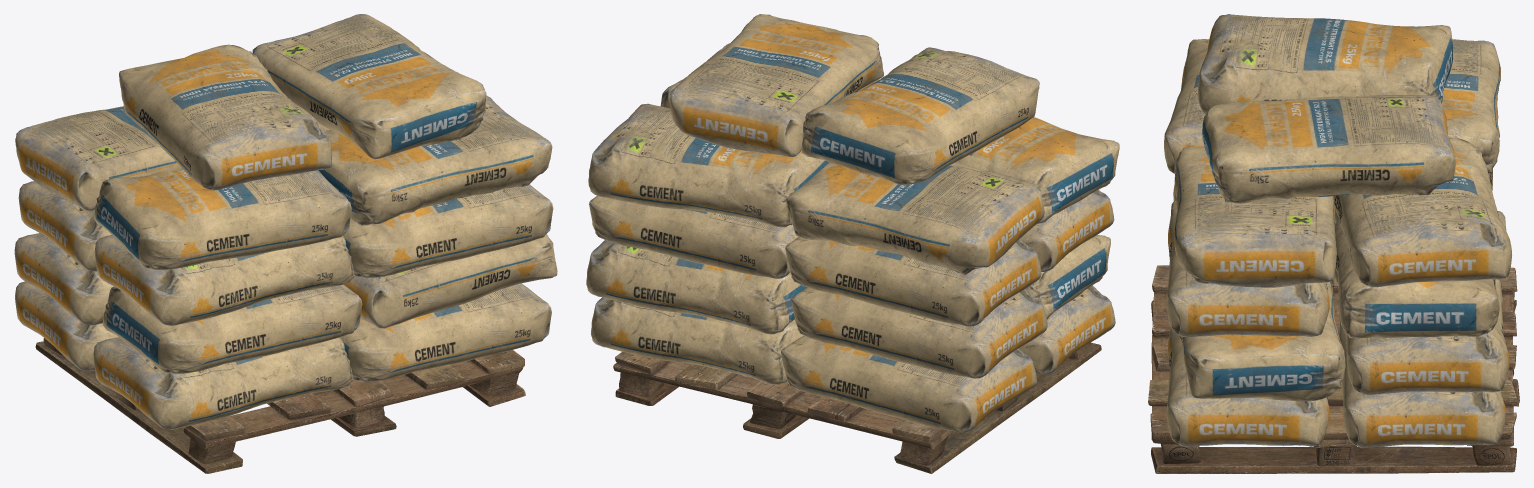
Rendered from SM_Cement_Bag_001b.glb.
The picture shows the model from 3 angles, left to right: view 1: azimuth 30°, elevation 25°; view 2: azimuth 150°, elevation 25°; view 3: azimuth 270°, elevation 25°; orthographic projection. The views are drawn at different scales.
Parts seen in each view (by area): view 1: SM_Cement_Bag_001b; view 2: SM_Cement_Bag_001b; view 3: SM_Cement_Bag_001b.
Part boxes in pixels (left/top/right/bottom): SM_Cement_Bag_001b: left=14, top=14, right=557, bottom=473; SM_Cement_Bag_001b: left=586, top=14, right=1119, bottom=473; SM_Cement_Bag_001b: left=1148, top=14, right=1519, bottom=473.
Size of the model in its own units: 1.67 by 1.17 by 1.22.
2 materials, 2 textured.
